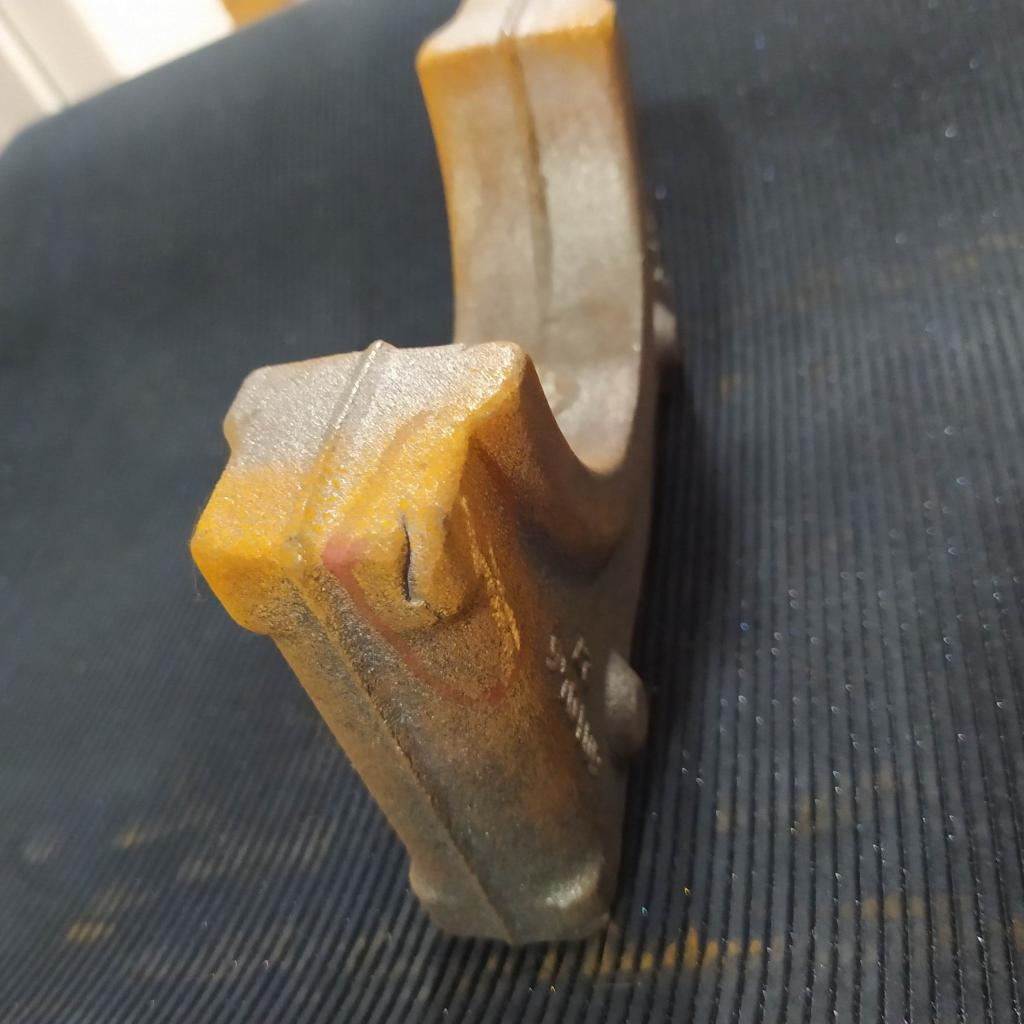rechupe: (392, 512, 424, 606)
